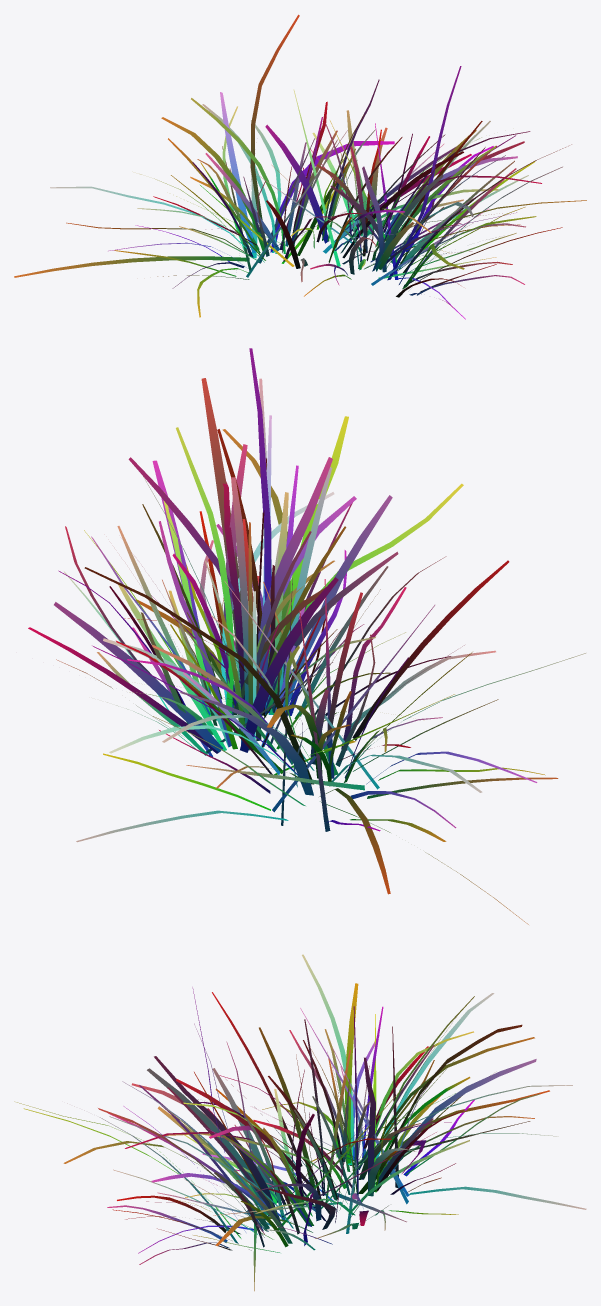
The model's file is Wild_Grass_vlkhcbxia_Mid_vlkhcbxia_VarF_LOD0.fbx.
3 renders of one model, top to bottom at view 1: azimuth 30°, elevation 25°; view 2: azimuth 150°, elevation 25°; view 3: azimuth 270°, elevation 25°, orthographic. The views are drawn at different scales.
Parts seen in each view (by area): view 1: _ajvc_VarF_LOD1; view 2: _ajvc_VarF_LOD1; view 3: _ajvc_VarF_LOD1.
Part boxes in pixels (x1,y1,x2,y2): _ajvc_VarF_LOD1: (14,14,586,319); _ajvc_VarF_LOD1: (28,348,585,924); _ajvc_VarF_LOD1: (14,954,586,1291).
Bounding box in the file's own units: 28.93 × 15.65 × 28.78.
